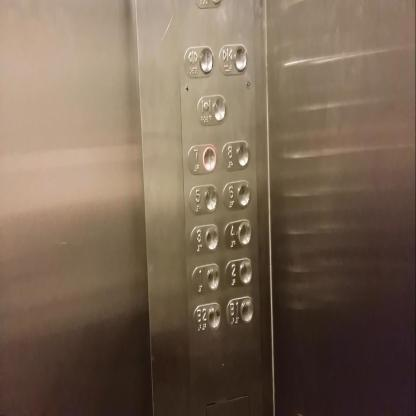1: (191, 263, 220, 295)
2: (225, 257, 252, 288)
3: (190, 223, 218, 251)
4: (223, 219, 251, 249)
5: (188, 184, 217, 214)
6: (222, 179, 249, 210)
7: (187, 143, 217, 174)
8: (222, 140, 249, 172)
B1: (226, 296, 254, 326)
B2: (194, 302, 221, 332)
close: (218, 44, 248, 74)
open: (182, 43, 214, 76)
unknown: (196, 94, 228, 126)
